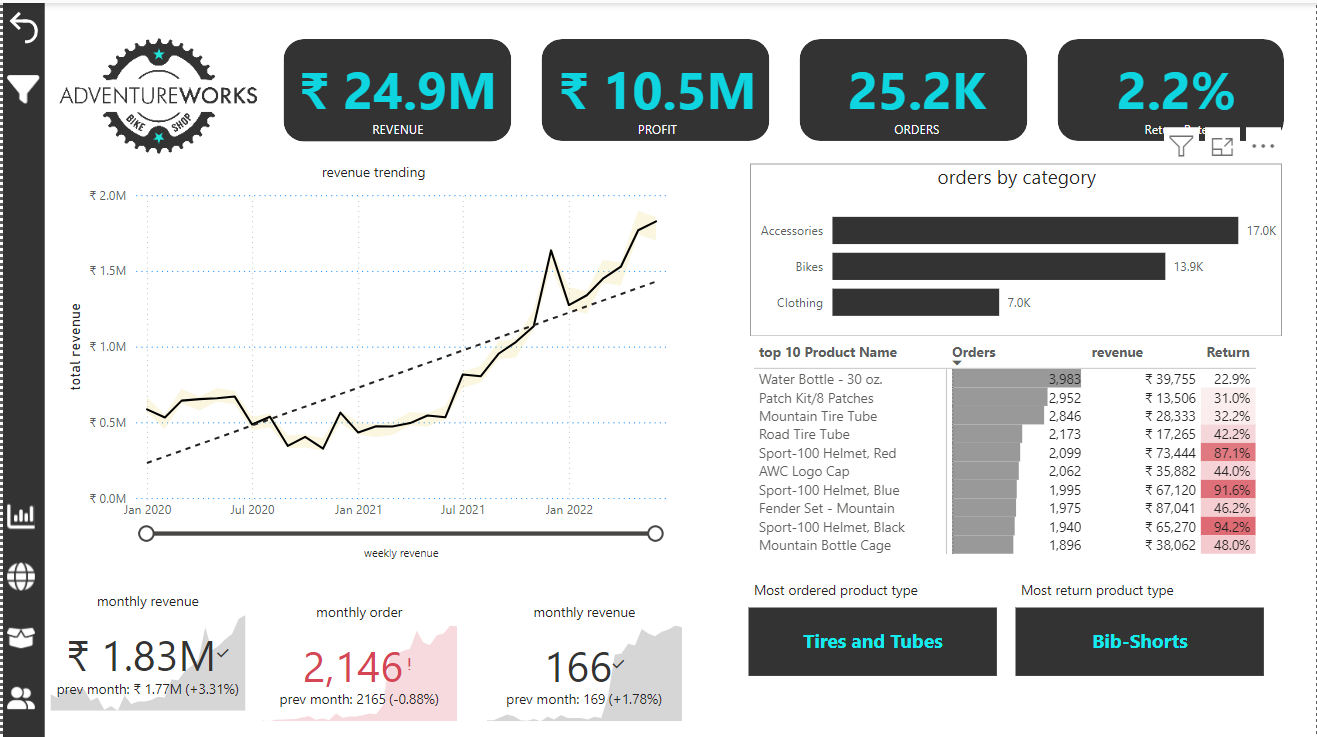

Layout of this report page (visuals, bound fields, positions):
{"tool":"powerbi","page":{"name":"Exec Dashboard","canvas":[1280,720],"ordinal":0},"visuals":[{"type":"card","fields":{"Values":["Measure Table.total revenue"]},"box":[247,14.6,274.8,150.5],"z":0,"group":"g3"},{"type":"image","title":"AW Logo","box":[15,26.7,275,128.3],"z":0},{"type":"shape","box":[273.3,35.1,222,100],"z":0,"group":"g2"},{"type":"actionButton","box":[0,539.7,35.1,39.5],"z":0,"group":"g4"},{"type":"shape","title":"left nav Background","box":[0,0,40.9,720.5],"z":1000},{"type":"card","fields":{"Values":["Measure Table.total profit"]},"box":[499.8,14.6,274.8,150.5],"z":1000,"group":"g3"},{"type":"shape","box":[524.6,35.1,222.1,99.4],"z":1000,"group":"g2"},{"type":"actionButton","box":[0,598.7,35.1,39.5],"z":1000,"group":"g4"},{"type":"group","id":"g1","title":"KPI","box":[247,14.6,1033,150.5],"z":2000},{"type":"card","fields":{"Values":["Measure Table.Total Orders"]},"box":[752.7,14.6,274.8,150.5],"z":2000,"group":"g3"},{"type":"group","id":"g2","title":" KPI Background","box":[273.3,35.1,974.8,100],"z":2000,"group":"g1"},{"type":"shape","box":[776,35.1,222.1,99.4],"z":2000,"group":"g2"},{"type":"actionButton","box":[0,480.8,35.1,39.5],"z":2000,"group":"g4"},{"type":"group","id":"g3","title":"KPI Values","box":[247,14.6,1033,150.5],"z":3000,"group":"g1"},{"type":"card","fields":{"Values":["Measure Table.Return Rate"]},"box":[1005.3,14.6,274.8,150.5],"z":3000,"group":"g3"},{"type":"shape","box":[1027.4,35.1,220.7,99.4],"z":3000,"group":"g2"},{"type":"lineChart","title":"revenue trending","fields":{"Y":["Measure Table.total revenue"],"Category":["Calendar Lookup.date hierarchy.Start of Month"]},"box":[57,154.9,608,388.7],"z":3000},{"type":"actionButton","box":[0,657.6,35.1,39.5],"z":3000,"group":"g4"},{"type":"kpi","title":"monthly revenue","fields":{"Indicator":["Measure Table.total revenue"],"TrendLine":["Calendar Lookup.Start of Month"],"Goal":["Measure Table.prvs mnth revnue"]},"box":[41.4,572.9,200,121.4],"z":4000},{"type":"kpi","title":"monthly order","fields":{"TrendLine":["Calendar Lookup.Start of Month"],"Indicator":["Measure Table.Total Orders"],"Goal":["Measure Table.prvs mnth order"]},"box":[247.1,582.9,200,121.4],"z":5000},{"type":"kpi","title":"monthly revenue","fields":{"TrendLine":["Calendar Lookup.Start of Month"],"Indicator":["Measure Table.Total Returns"],"Goal":["Measure Table.prvs mnth return"]},"box":[465.7,582.9,200,121.4],"z":6000},{"type":"clusteredBarChart","title":"orders by category","fields":{"Category":["Product Categories Lookup.CategoryName"],"Y":["Measure Table.Total Orders"]},"box":[727.1,155.7,520,168.6],"z":7000},{"type":"pivotTable","fields":{"Rows":["Product Categories Lookup.CategoryName","Product Lookup.ProductName"],"Values":["Measure Table.Total Orders","Measure Table.total revenue","Measure Table.Return Rate"]},"box":[725.8,324.1,521.1,229.5],"z":8000},{"type":"card","fields":{"Values":["Min(Product Subcategories Lookup.SubcategoryName)"]},"box":[725.8,589.3,241.9,66.7],"z":9000},{"type":"textbox","box":[726.3,556.8,181.2,32.2],"z":10000},{"type":"card","fields":{"Values":["Min(Product Subcategories Lookup.SubcategoryName)"]},"box":[986.4,589.3,241.9,66.7],"z":11000},{"type":"textbox","box":[986.5,556.8,181.2,32.2],"z":12000},{"type":"actionButton","box":[0,0,40.9,48.2],"z":13000},{"type":"group","id":"g4","title":"Navigation button","box":[0,480.8,35.1,216.3],"z":14000},{"type":"actionButton","box":[0,64.3,40.9,39.5],"z":15000}]}

Visuals, with their boxes on the page's 1280x720 design canvas (x1, y1, x2, y2). These are canvas units, not pixel positions in the 1317x737 screenshot, which may show the page scaled, cropped or inside an application window:
card - Measure Table.total revenue: BBox(247, 15, 522, 165)
"AW Logo" image: BBox(15, 27, 290, 155)
shape: BBox(273, 35, 495, 135)
actionButton: BBox(0, 540, 35, 579)
"left nav Background" shape: BBox(0, 0, 41, 720)
card - Measure Table.total profit: BBox(500, 15, 775, 165)
shape: BBox(525, 35, 747, 134)
actionButton: BBox(0, 599, 35, 638)
"KPI" group: BBox(247, 15, 1280, 165)
card - Measure Table.Total Orders: BBox(753, 15, 1028, 165)
" KPI Background" group: BBox(273, 35, 1248, 135)
shape: BBox(776, 35, 998, 134)
actionButton: BBox(0, 481, 35, 520)
"KPI Values" group: BBox(247, 15, 1280, 165)
card - Measure Table.Return Rate: BBox(1005, 15, 1280, 165)
shape: BBox(1027, 35, 1248, 134)
"revenue trending" lineChart: BBox(57, 155, 665, 544)
actionButton: BBox(0, 658, 35, 697)
"monthly revenue" kpi: BBox(41, 573, 241, 694)
"monthly order" kpi: BBox(247, 583, 447, 704)
"monthly revenue" kpi: BBox(466, 583, 666, 704)
"orders by category" clusteredBarChart: BBox(727, 156, 1247, 324)
pivotTable - Product Categories Lookup.CategoryName x Product Lookup.ProductName: BBox(726, 324, 1247, 554)
card - Min(Product Subcategories Lookup.SubcategoryName): BBox(726, 589, 968, 656)
textbox: BBox(726, 557, 908, 589)
card - Min(Product Subcategories Lookup.SubcategoryName): BBox(986, 589, 1228, 656)
textbox: BBox(986, 557, 1168, 589)
actionButton: BBox(0, 0, 41, 48)
"Navigation button" group: BBox(0, 481, 35, 697)
actionButton: BBox(0, 64, 41, 104)
